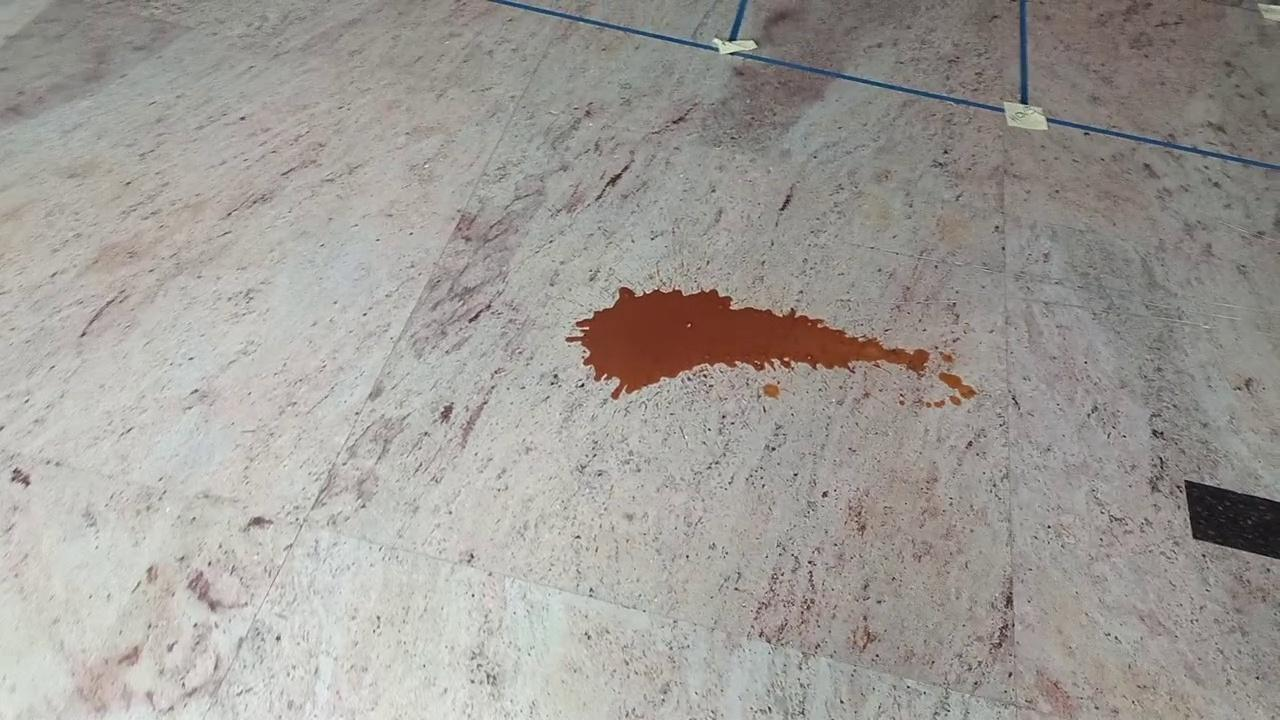dirty_floor: (567, 280, 979, 409)
